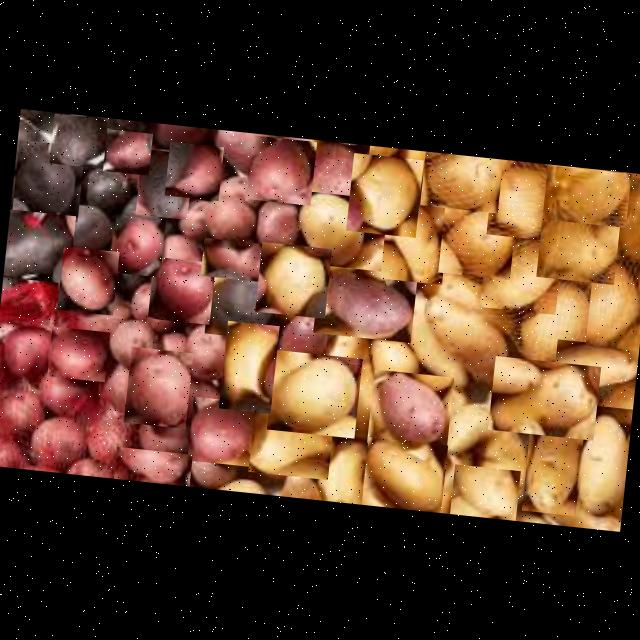Damaged potato: (11, 140, 85, 222), (204, 265, 279, 340), (2, 208, 76, 284), (135, 148, 194, 220), (51, 197, 118, 255), (74, 162, 133, 216), (49, 114, 108, 168)
Defected potato: (312, 264, 418, 342), (366, 369, 454, 451), (123, 346, 193, 428), (246, 135, 316, 205), (187, 396, 255, 466), (147, 256, 215, 324), (270, 306, 334, 374), (57, 246, 119, 316), (304, 139, 370, 197), (180, 319, 240, 382), (198, 190, 262, 246), (46, 326, 110, 382), (110, 214, 166, 277), (101, 314, 164, 370), (164, 142, 223, 200), (210, 129, 276, 177), (114, 446, 192, 486), (0, 322, 56, 377), (200, 238, 270, 282), (253, 199, 300, 253), (102, 128, 152, 176)
Potato: (488, 356, 600, 440), (417, 292, 517, 382), (512, 277, 602, 375), (266, 349, 362, 438), (346, 152, 424, 238), (480, 234, 562, 314), (361, 437, 448, 512), (248, 406, 334, 480), (292, 187, 370, 268), (536, 210, 620, 284), (551, 339, 639, 409), (438, 202, 516, 280), (522, 418, 584, 516), (380, 198, 450, 284), (574, 410, 630, 516), (254, 242, 332, 318), (486, 158, 558, 240), (218, 321, 279, 414), (542, 165, 631, 227), (585, 257, 640, 350), (420, 151, 502, 213), (450, 464, 520, 520), (366, 334, 428, 387)
